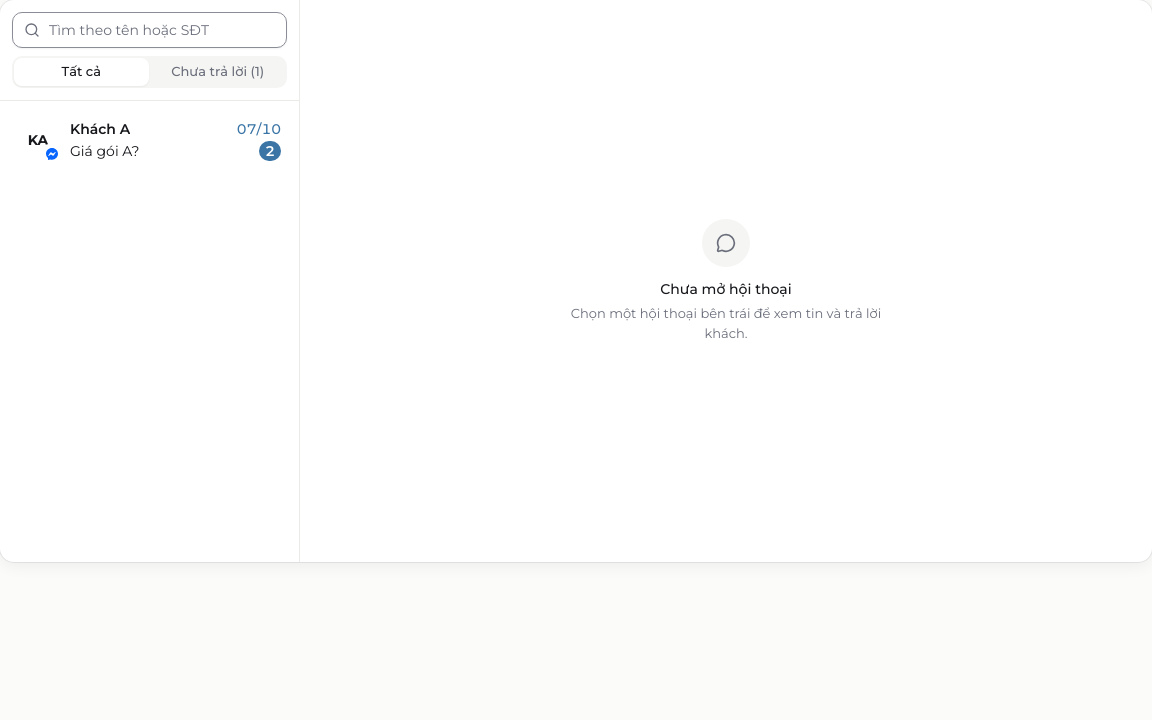
<FacebookPanel> › hộp thư: quá 7 ngày ⇒ không có ô trả lời, hiện lý do
Click the button "KA Khách A 07/10 Giá gói A? 2" at (38, 140), box [8,109,291,171]
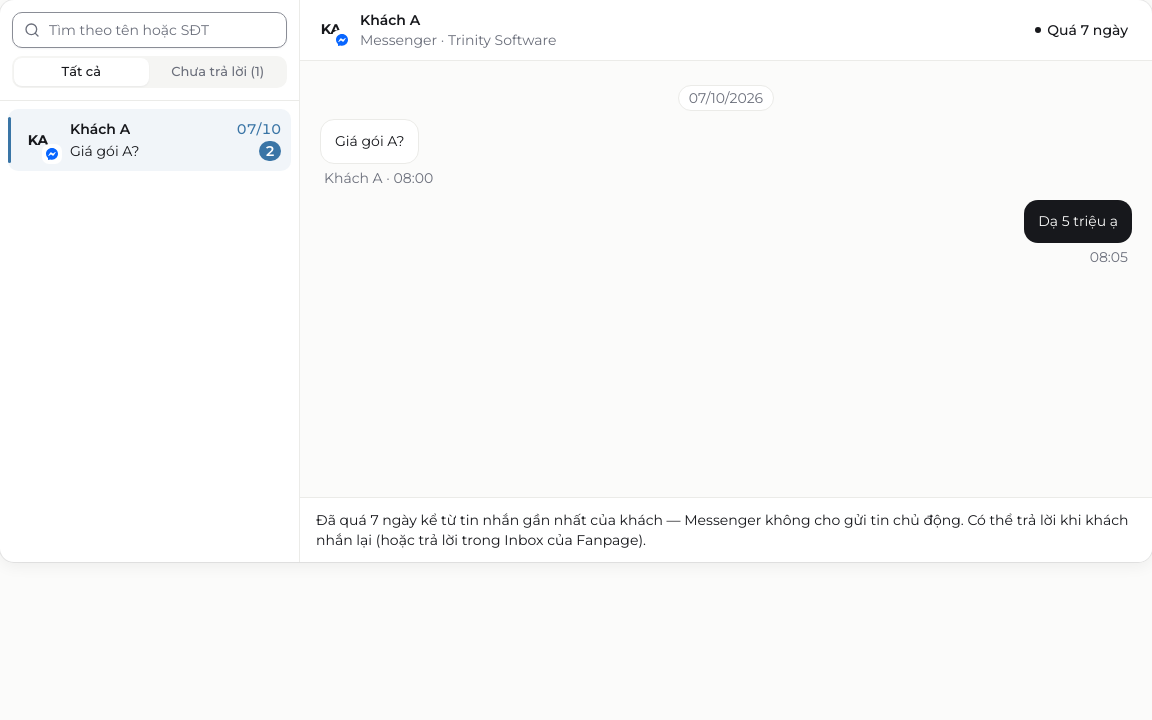
expect the text "quá 7 ngày kể từ" is shown: met, box [316,511,1128,549]
